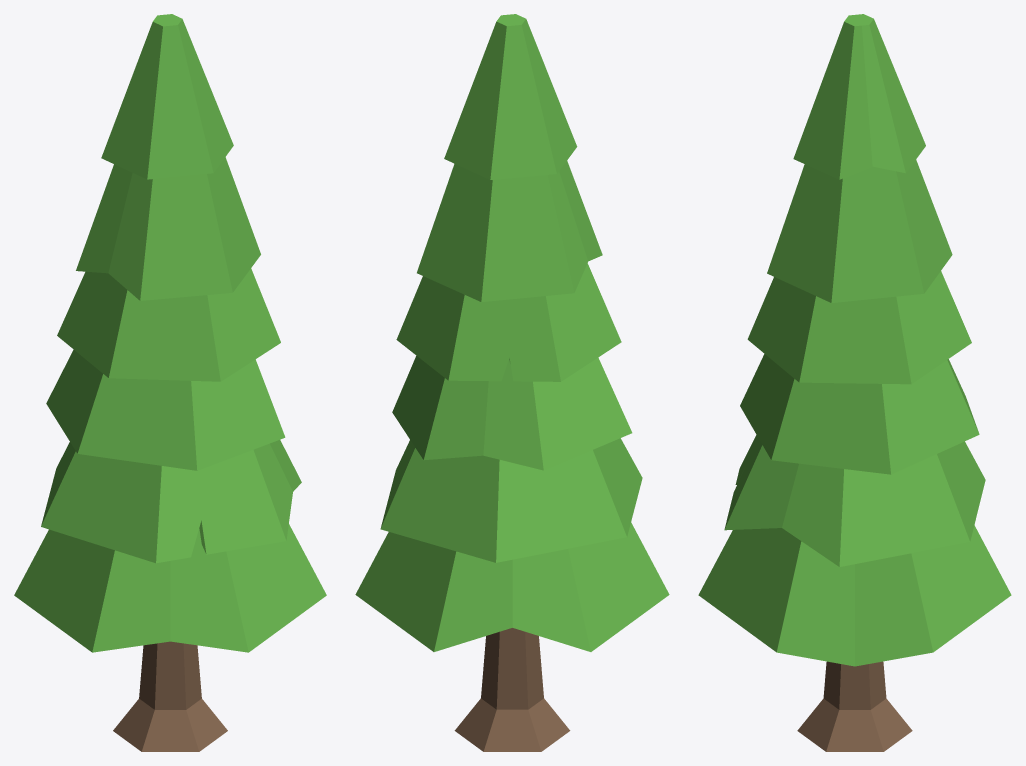
The model's file is tree 3.fbx.
The picture shows the model from 3 angles, left to right: view 1: azimuth 30°, elevation 25°; view 2: azimuth 150°, elevation 25°; view 3: azimuth 270°, elevation 25°; orthographic projection.
Visible parts, largest first — view 1: Tree 3; view 2: Tree 3; view 3: Tree 3.
Boxes of the visible parts, left/top/right/bottom form: Tree 3: left=14, top=14, right=326, bottom=751; Tree 3: left=355, top=14, right=669, bottom=751; Tree 3: left=698, top=14, right=1011, bottom=751.
Bounding box in the file's own units: 215 × 594 × 237.
Materials: 1 (1 with a texture image).
